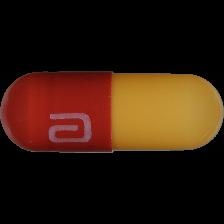0074-9642: (0, 0, 224, 224)
